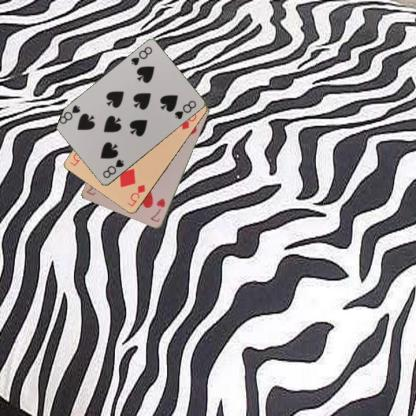5d: (125, 182, 146, 208)
7h: (148, 196, 166, 223)
8s: (100, 156, 125, 180), (128, 44, 153, 67)
